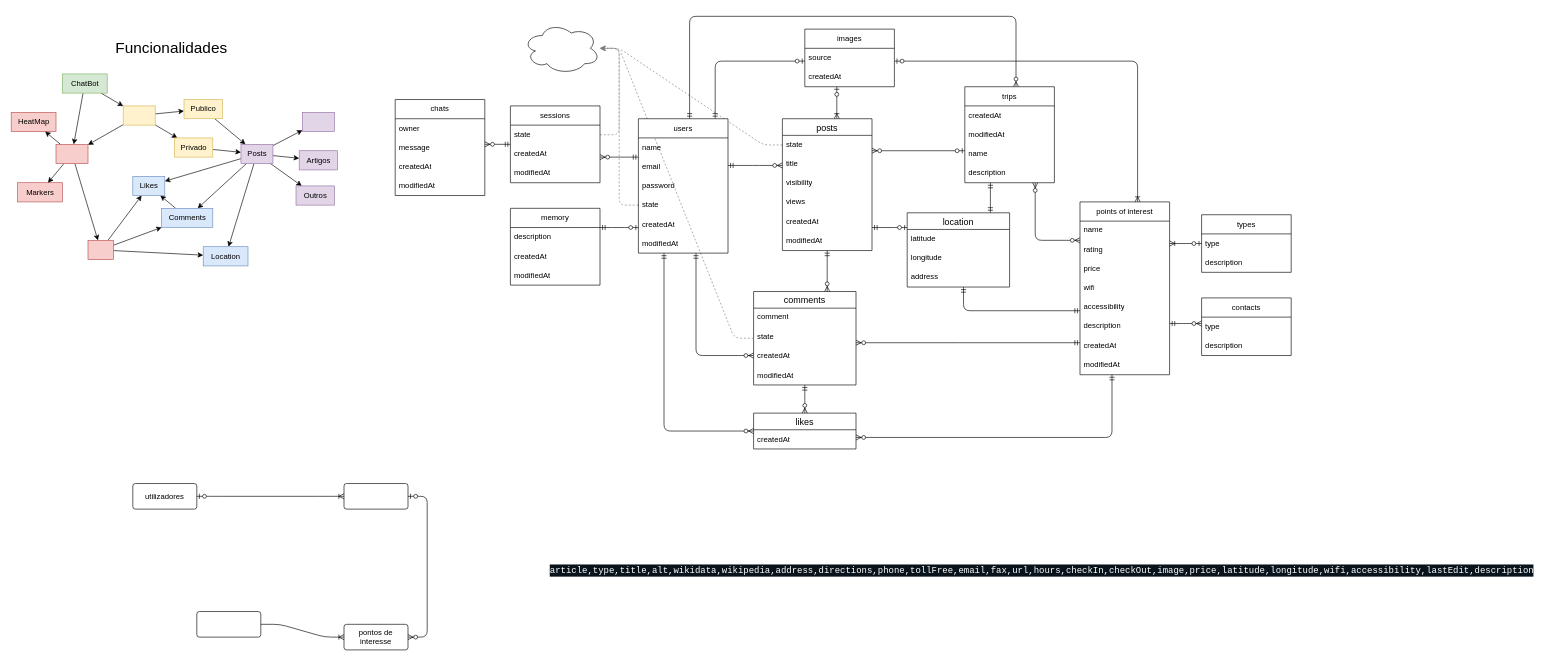
Image size: 1545x661. Some labels were removed from this diagram. Here are the shapes that lost their labels. From the top down, the centre of each, then its label:
At point (561, 48): "Ativo ou Desativado".
At point (139, 115): "Feed".
At point (318, 122): "Fotos".
At point (71, 154): "Map".
At point (100, 250): "POI".
At point (375, 496): "viagens".
At point (228, 624): "tipo".
